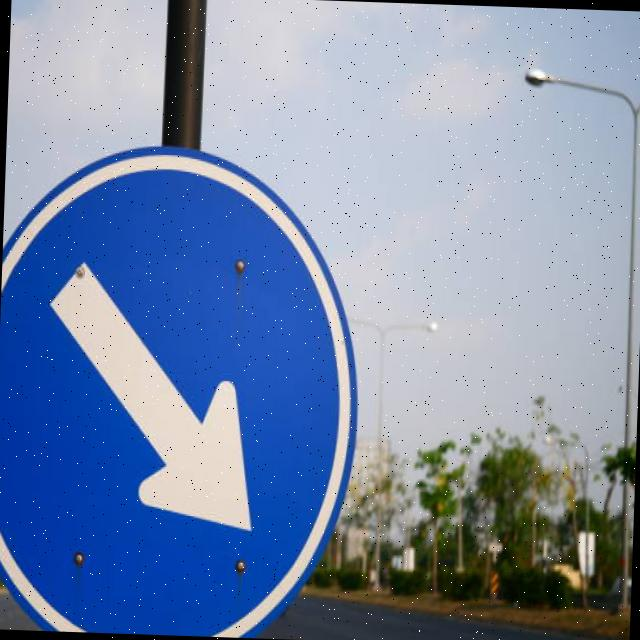compulsory_keep_right: (0, 130, 369, 640)
